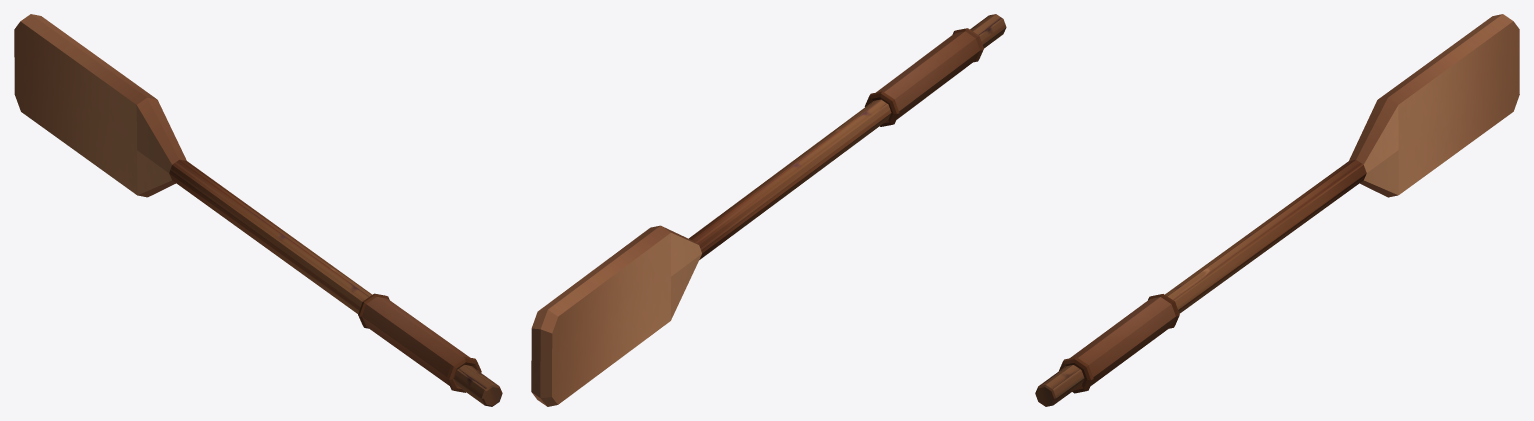
File: CBS_Aobj_paddle_001.FBX
3 renders of one model, left to right at view 1: azimuth 30°, elevation 25°; view 2: azimuth 150°, elevation 25°; view 3: azimuth 330°, elevation 25°, orthographic. The views are drawn at different scales.
Parts seen in each view (by area): view 1: CBS_Aobj_paddle; view 2: CBS_Aobj_paddle; view 3: CBS_Aobj_paddle.
Part boxes in pixels (left/top/right/bottom): CBS_Aobj_paddle: left=14, top=14, right=502, bottom=406; CBS_Aobj_paddle: left=531, top=14, right=1006, bottom=406; CBS_Aobj_paddle: left=1035, top=14, right=1519, bottom=406.
Bounding box in the file's own units: 4.94 × 13.47 × 113.
